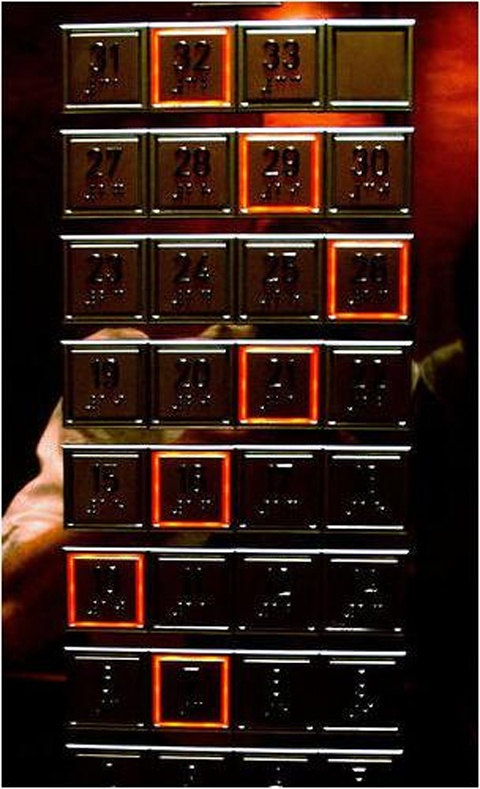11: (57, 544, 152, 637)
15: (58, 441, 153, 534)
16: (145, 443, 240, 536)
17: (232, 443, 327, 536)
19: (57, 338, 152, 431)
20: (147, 338, 242, 431)
21: (231, 339, 326, 432)
22: (320, 339, 415, 432)
23: (57, 232, 152, 327)
24: (145, 232, 240, 327)
25: (234, 232, 329, 327)
26: (321, 232, 416, 327)
27: (56, 126, 151, 221)
28: (145, 126, 240, 221)
29: (234, 126, 329, 221)
30: (323, 125, 418, 220)
31: (57, 20, 151, 116)
32: (145, 20, 239, 116)
33: (234, 18, 328, 114)
blur: (319, 444, 414, 537), (144, 546, 239, 639), (232, 548, 327, 641), (317, 547, 412, 640), (57, 644, 152, 737), (144, 647, 237, 736), (230, 649, 323, 738), (316, 649, 409, 738)
empty: (324, 17, 418, 113)
